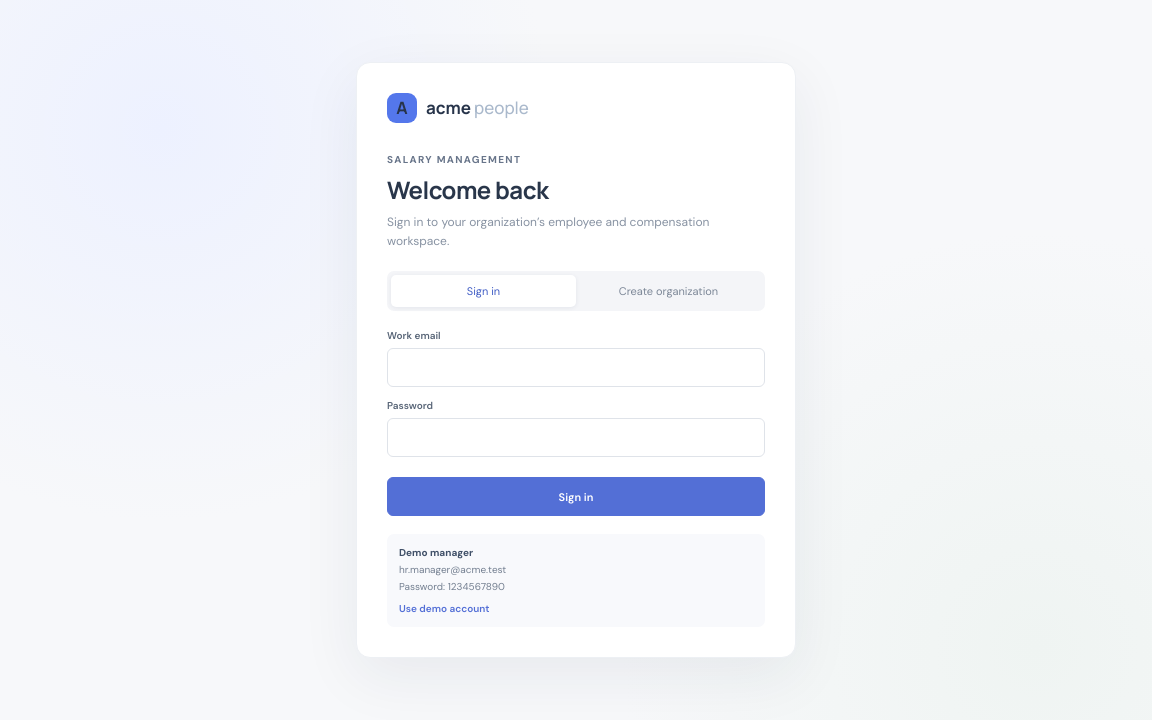
salary management workspace › registers an organization and its first manager
Step 1. Click the button "Create organization" → [668, 291], box [576, 275, 761, 307]
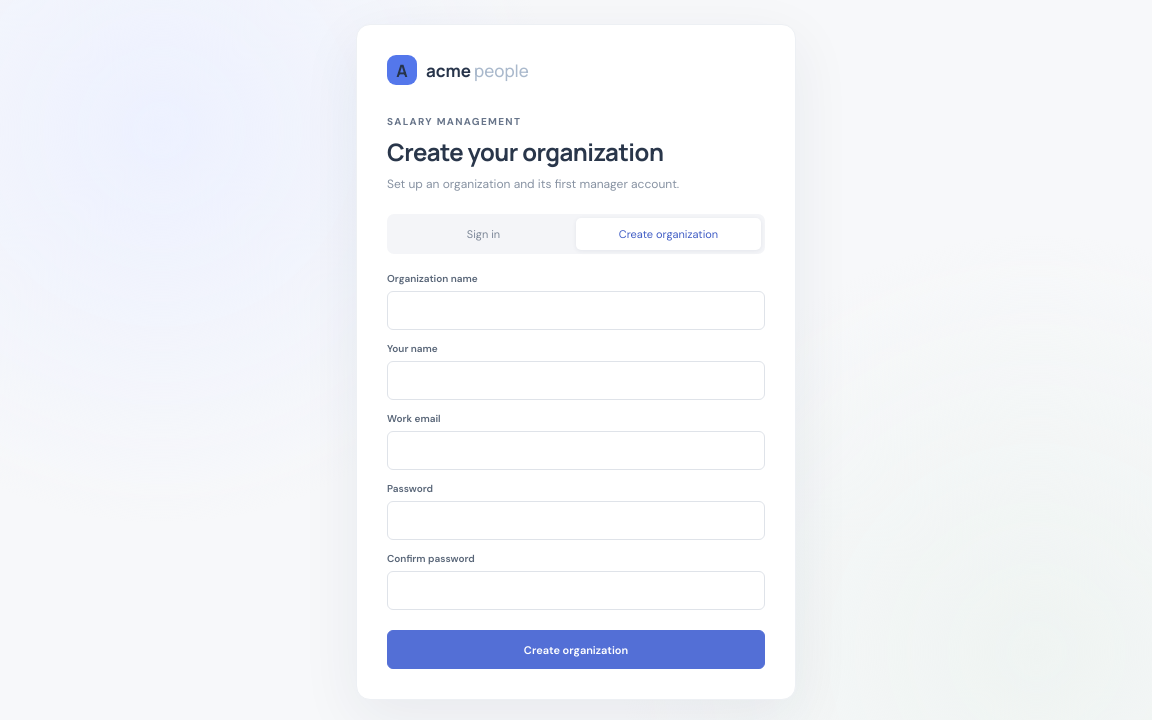
Step 2. Type "Northwind Legal" into the field labelled "Organization name" → [576, 311], box [387, 291, 765, 330]
Step 3. Type "Jordan Lee" into the field labelled "Your name" → [576, 381], box [387, 361, 765, 400]
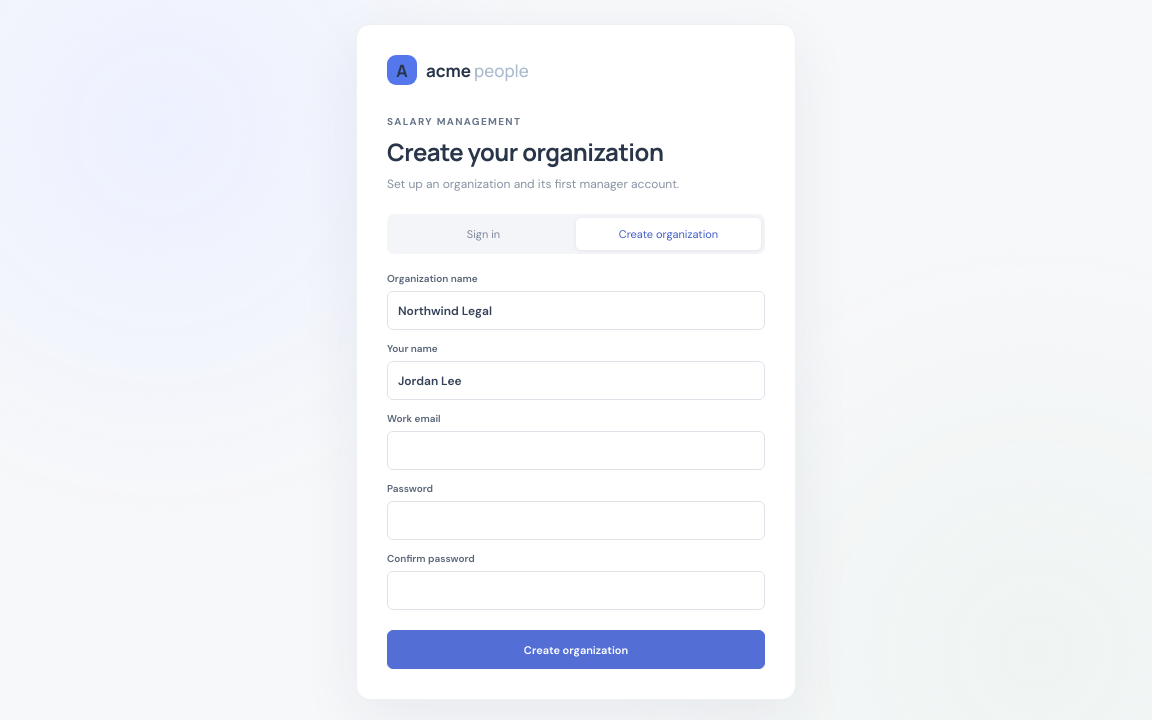
Step 4. Type "hr@northwind.test" into the field labelled "Work email" → [576, 451], box [387, 431, 765, 470]
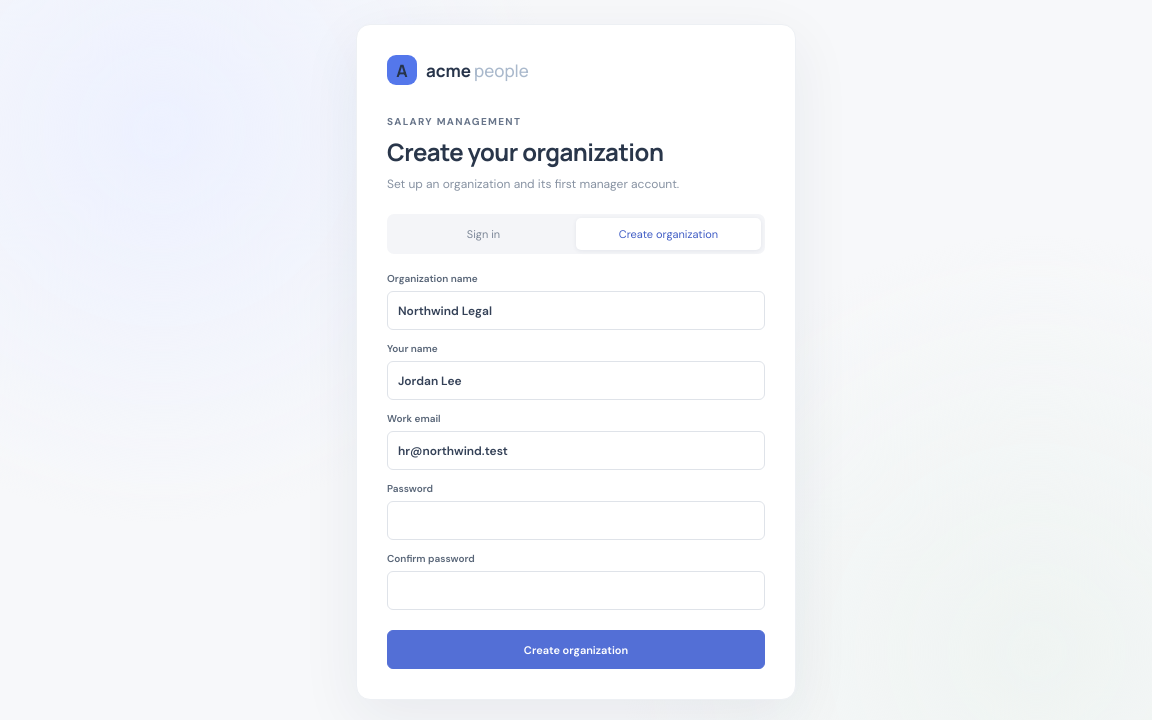
Step 5. Type "northwind-pass-123" into the password field labelled "Password" → [576, 521], box [387, 501, 765, 540]
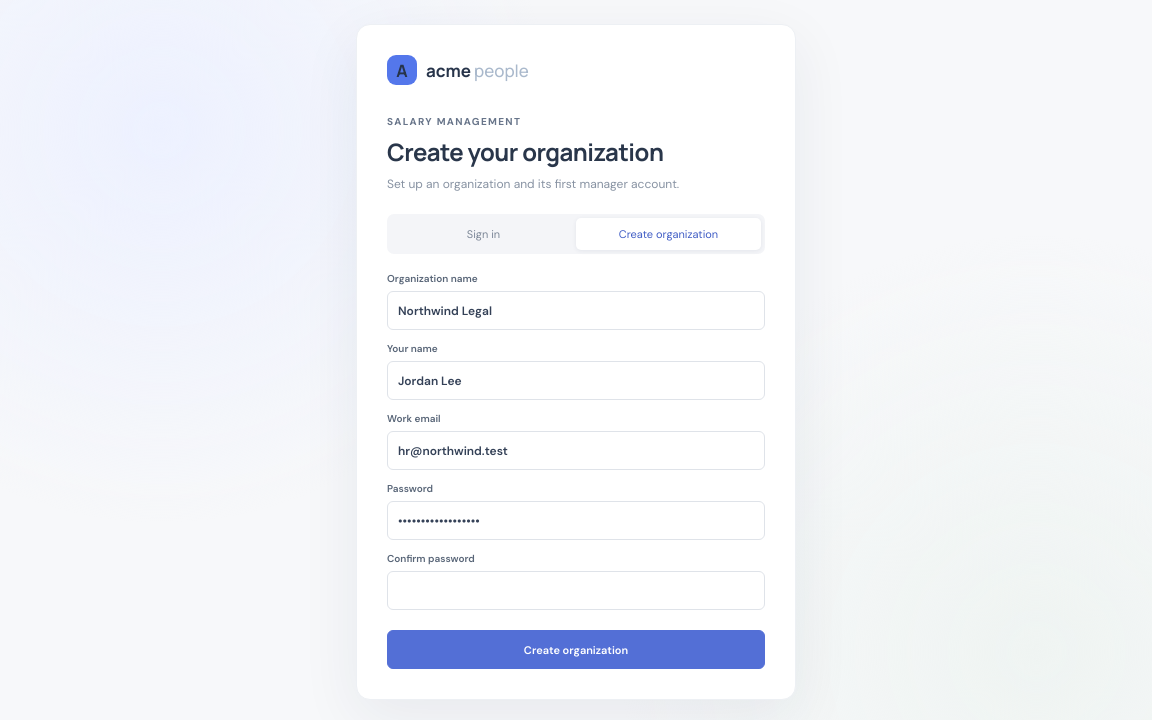
Step 6. Type "northwind-pass-123" into the password field labelled "Confirm password" → [576, 591], box [387, 571, 765, 610]
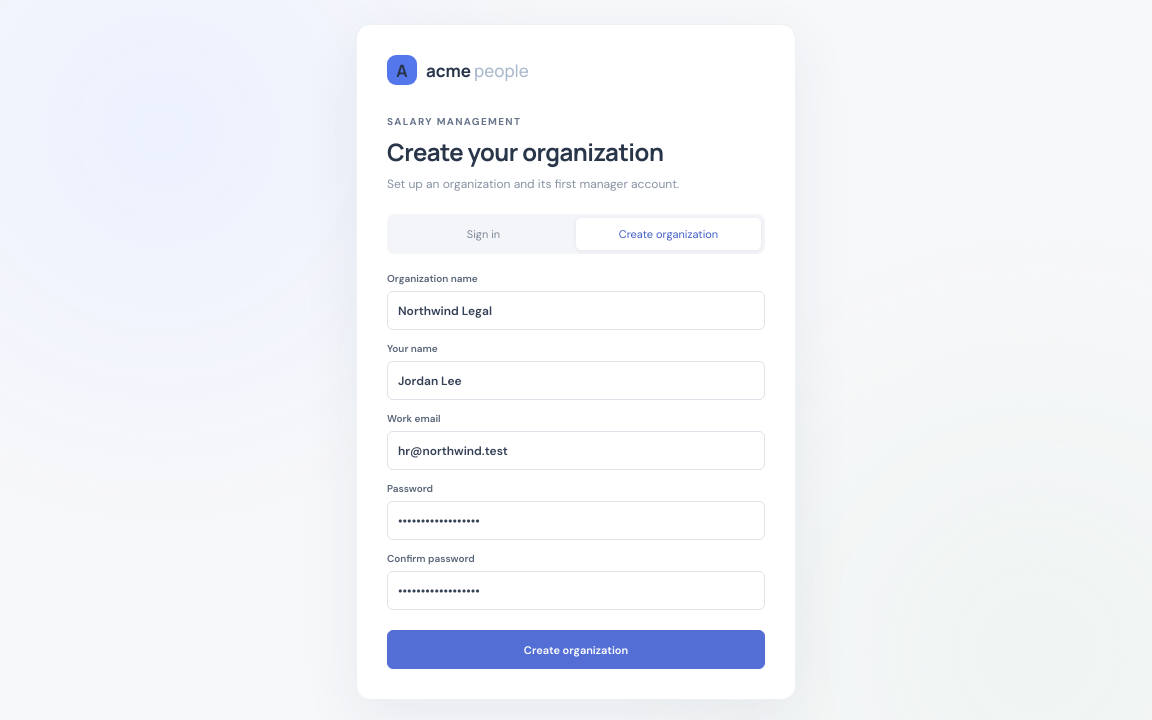
Step 7. Click the button "Create organization" below "Confirm password" → [576, 650], box [387, 630, 765, 669]
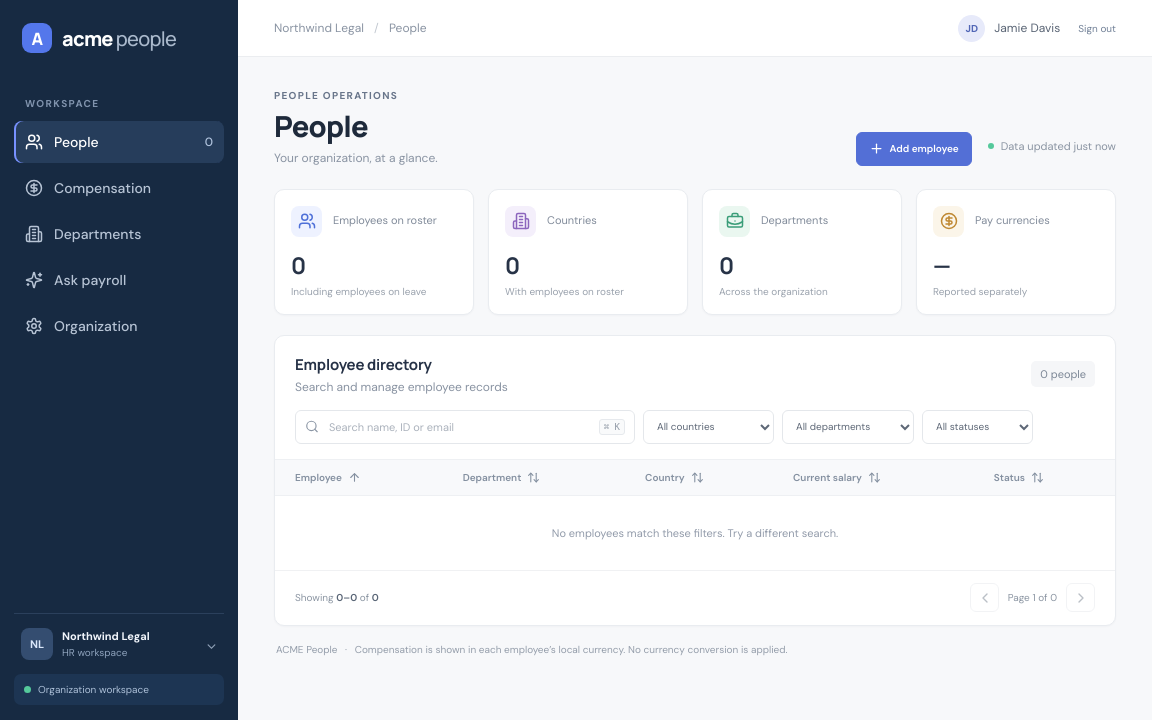
Expected: the heading "Employee directory" is shown, [295, 354, 432, 375]
Expected: the text "Northwind Legal" is shown, [62, 629, 150, 643]
